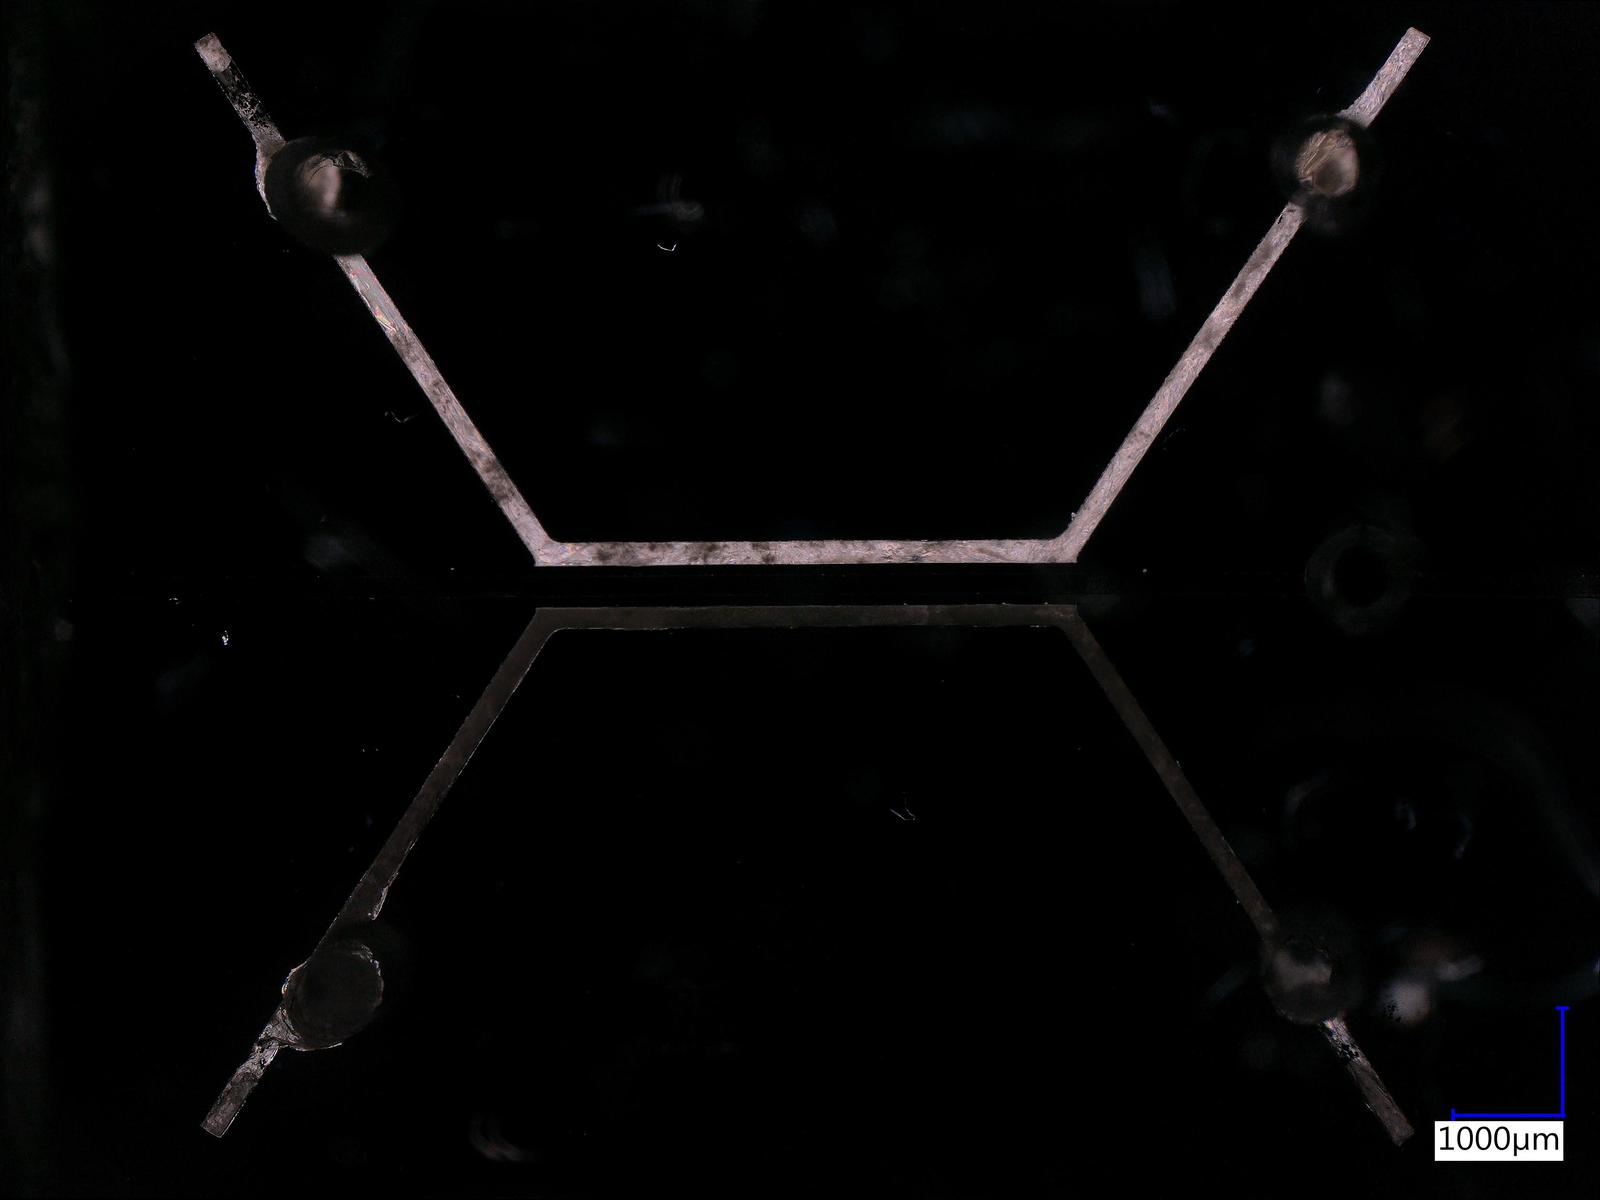sediment: (387, 328, 454, 405), (1220, 238, 1289, 304), (465, 451, 523, 508), (588, 543, 724, 566), (748, 541, 871, 561)
